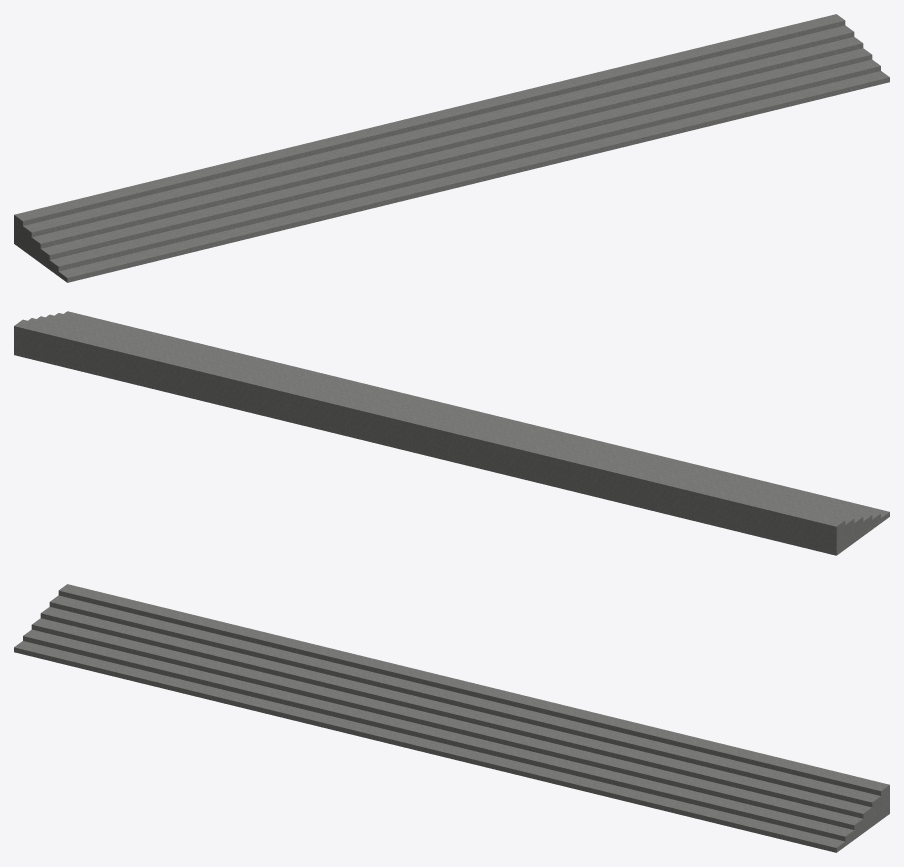
Rendered from grandstand.obj.
The picture shows the model from 3 angles, top to bottom: view 1: azimuth 30°, elevation 25°; view 2: azimuth 150°, elevation 25°; view 3: azimuth 330°, elevation 25°; orthographic projection.
Parts seen in each view (by area): view 1: grandstand; view 2: grandstand; view 3: grandstand.
Part boxes in pixels (bbox=[...]): grandstand: bbox=[14, 14, 889, 282]; grandstand: bbox=[14, 311, 889, 555]; grandstand: bbox=[14, 584, 889, 852].
Bounding box in the file's own units: 160 × 5.4 × 18.
1 material, 1 textured.
